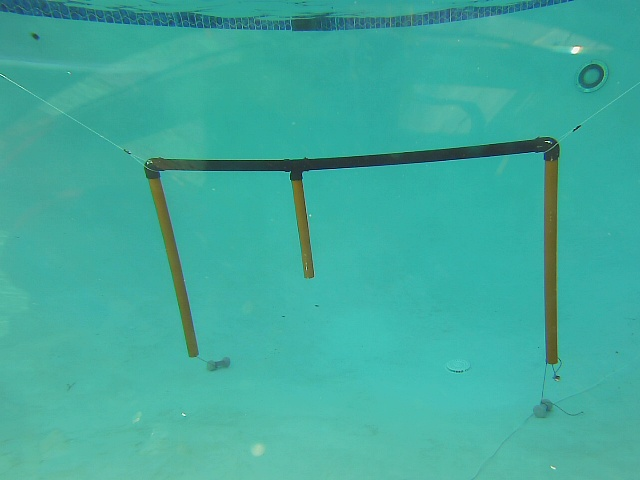Gate: (144, 172, 198, 360), (539, 157, 560, 368), (289, 181, 317, 282)
